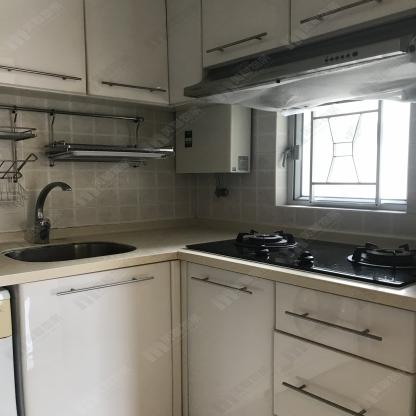Cupboard: (26, 259, 416, 414), (1, 0, 171, 101)
Exhaust Hood: (183, 18, 416, 111), (182, 14, 416, 99)
Faucet: (32, 179, 71, 242)
Sink: (0, 233, 173, 276), (5, 240, 142, 262)
Stove: (168, 225, 416, 297), (186, 233, 416, 286)
